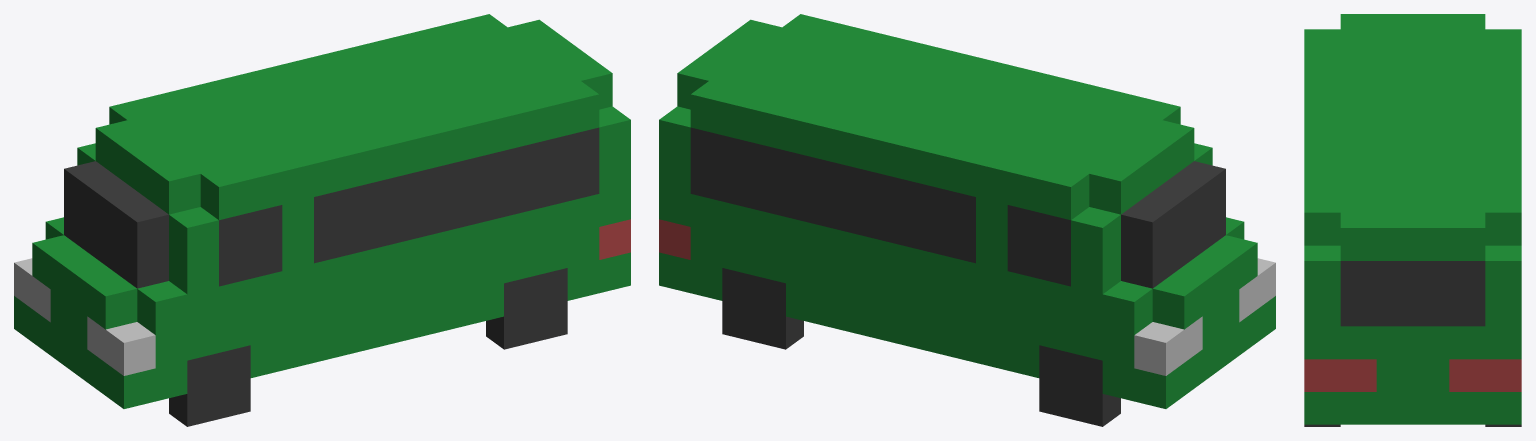
The model's file is bus-small-green.gltf.
The picture shows the model from 3 angles, left to right: view 1: azimuth 30°, elevation 25°; view 2: azimuth 150°, elevation 25°; view 3: azimuth 270°, elevation 25°; orthographic projection.
Parts seen in each view (by area): view 1: model, wheels; view 2: model, wheels; view 3: model, wheels.
Boxes of the visible parts, x1,y1,x2,y2 form: model: (14, 14, 630, 408); wheels: (169, 268, 567, 426); model: (659, 14, 1275, 408); wheels: (722, 268, 1120, 426); model: (1304, 14, 1521, 424); wheels: (1304, 424, 1521, 426).
Size of the model in its own units: 1.6 by 0.7 by 0.6.
Materials: 2 (2 with a texture image).
